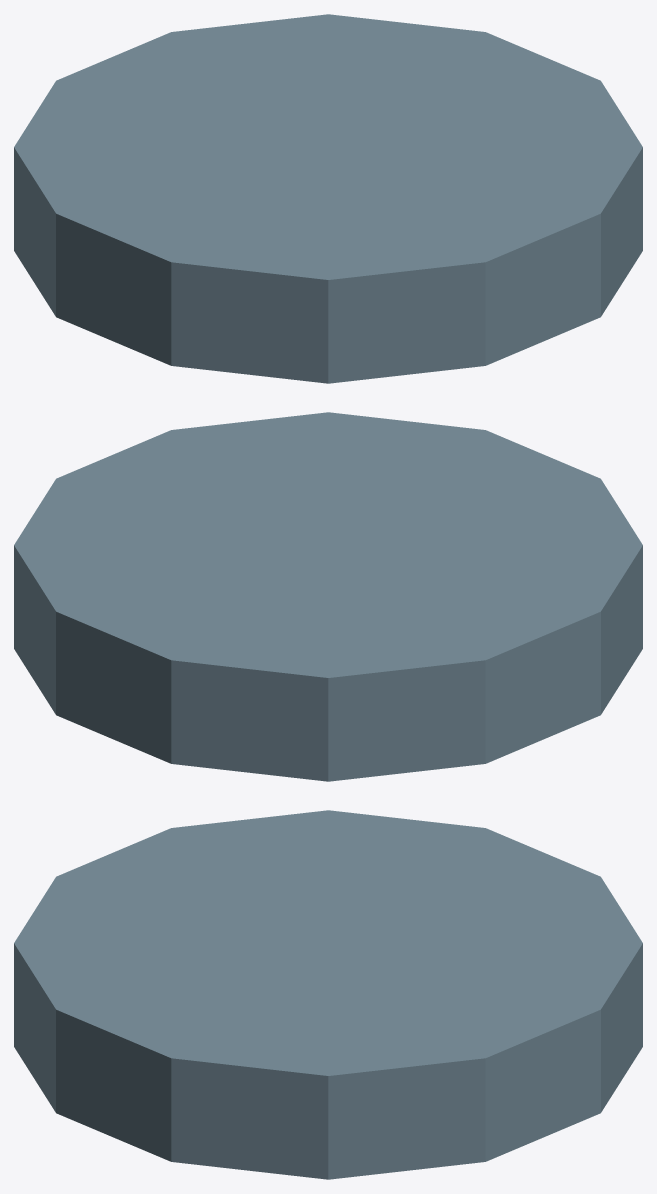
Rendered from platform.gltf.
3 renders of one model, top to bottom at view 1: azimuth 30°, elevation 25°; view 2: azimuth 150°, elevation 25°; view 3: azimuth 270°, elevation 25°, orthographic.
Visible parts, largest first — view 1: platform; view 2: platform; view 3: platform.
Boxes of the visible parts, x1,y1,x2,y2 form: platform: [14, 14, 642, 383]; platform: [14, 412, 642, 781]; platform: [14, 810, 642, 1179].
Size of the model in its own units: 0.78 by 0.2045 by 0.78.
